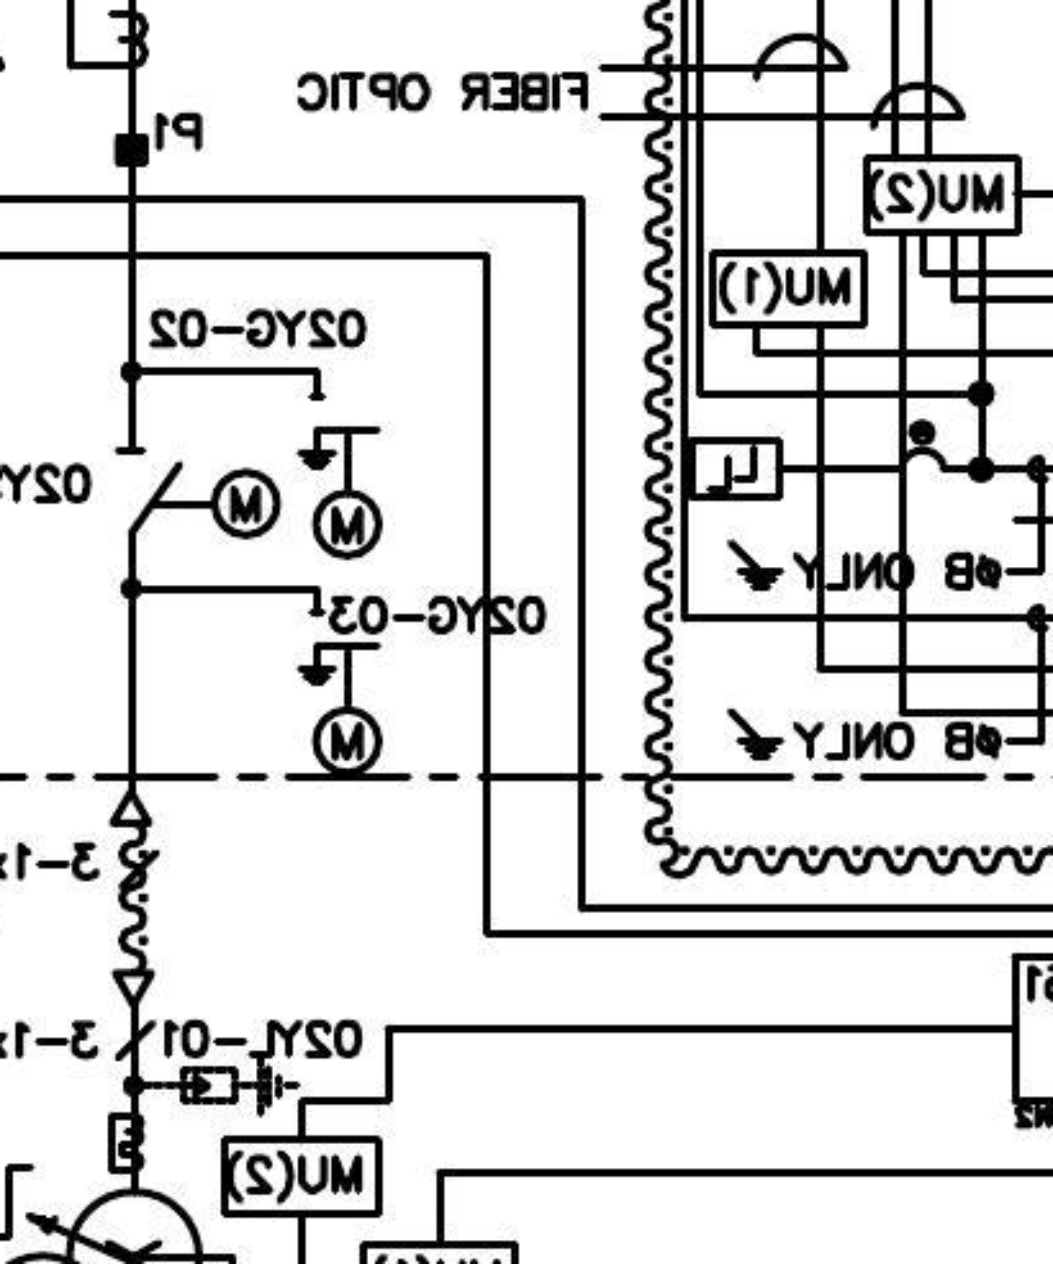115_1way_ds_w_motor: (114, 446, 285, 543)
115_gs_w_motor: (295, 393, 384, 563), (296, 608, 385, 778)
LL: (688, 436, 785, 503)
MU: (861, 153, 1024, 238), (220, 1134, 382, 1219), (708, 249, 869, 331)
terminator_single: (106, 785, 154, 828), (109, 967, 157, 1010)
